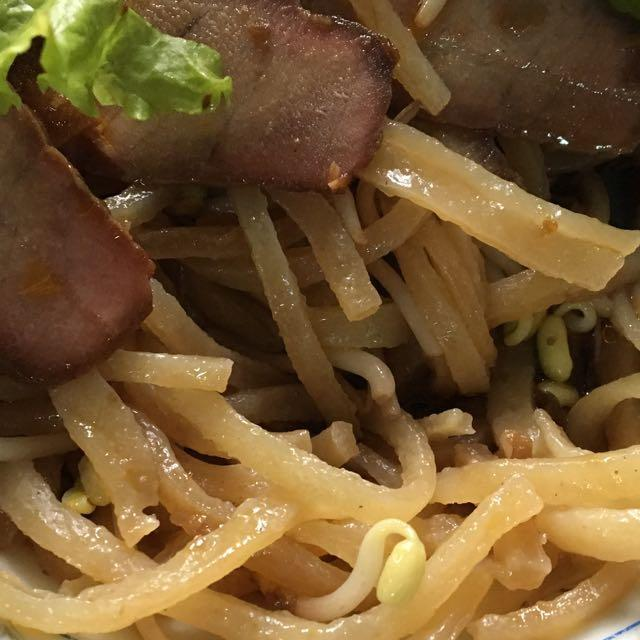mi: (0, 48, 640, 640), (0, 330, 240, 591)
thit heo: (0, 0, 405, 203), (0, 0, 163, 399), (285, 0, 640, 170)
